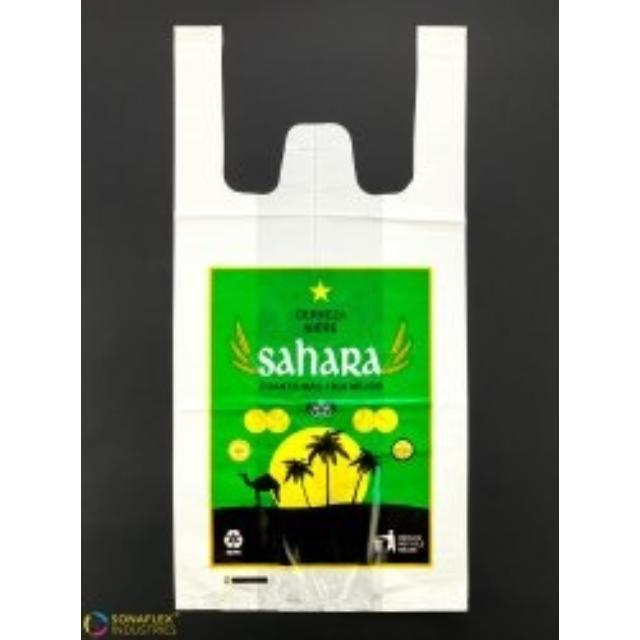plastic: (173, 26, 468, 611)
